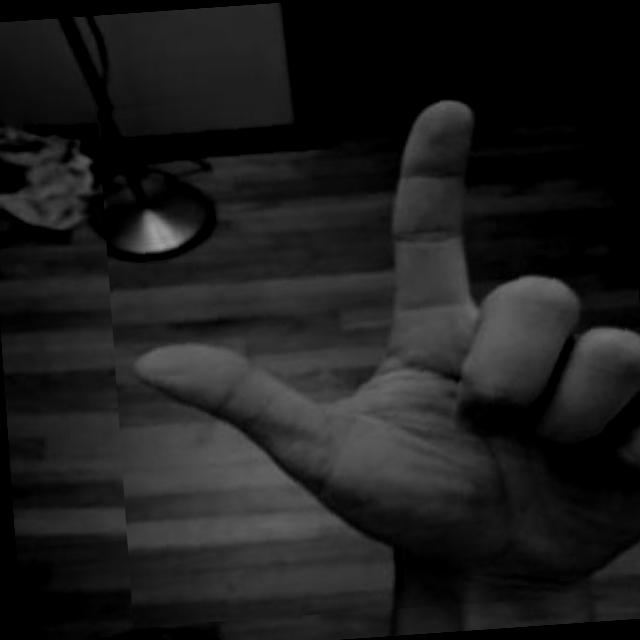L: (95, 58, 640, 627)
